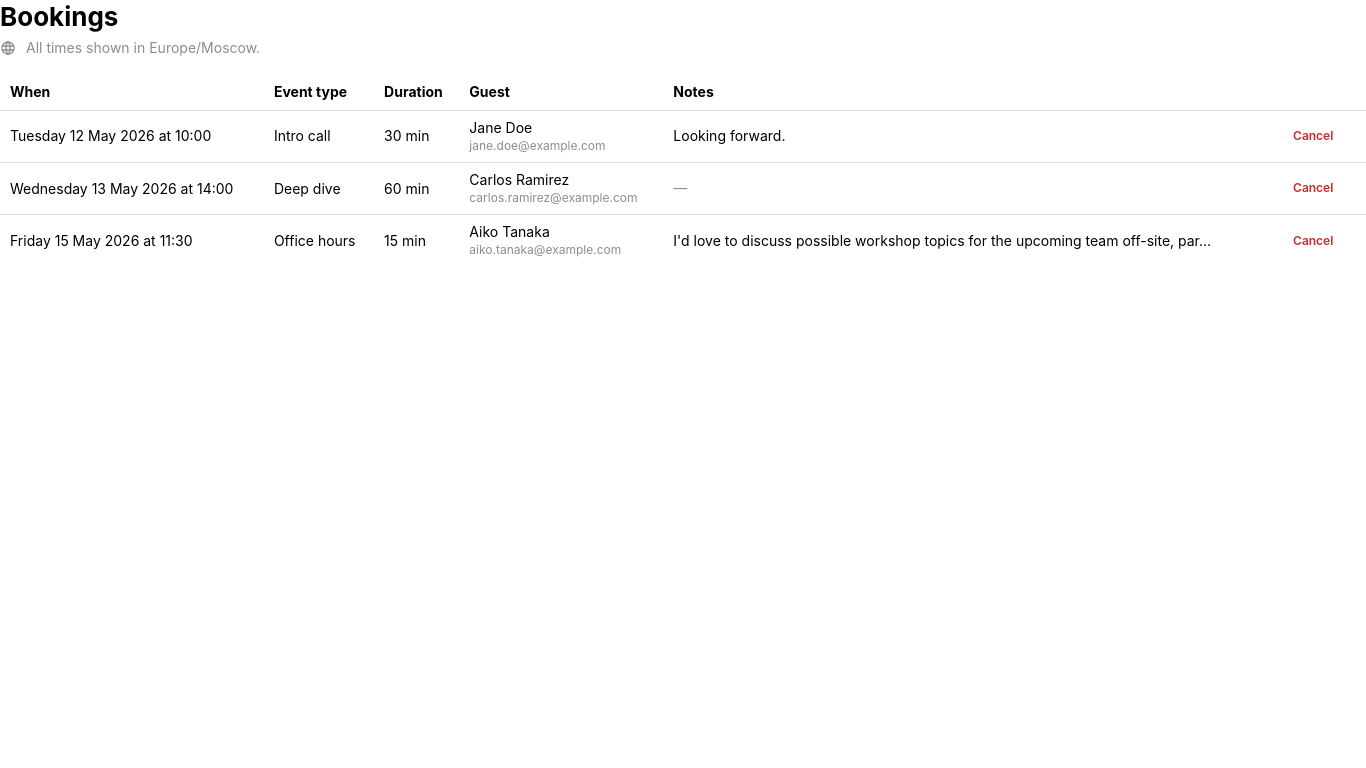
Scenario: BookingsPage › opens the cancel modal with the booking summary when Cancel is clicked
The image size is (1366, 768).
Click the button with aria-label "cancel intro call with jane doe" at (1313, 136), box [1278,121,1348,151]
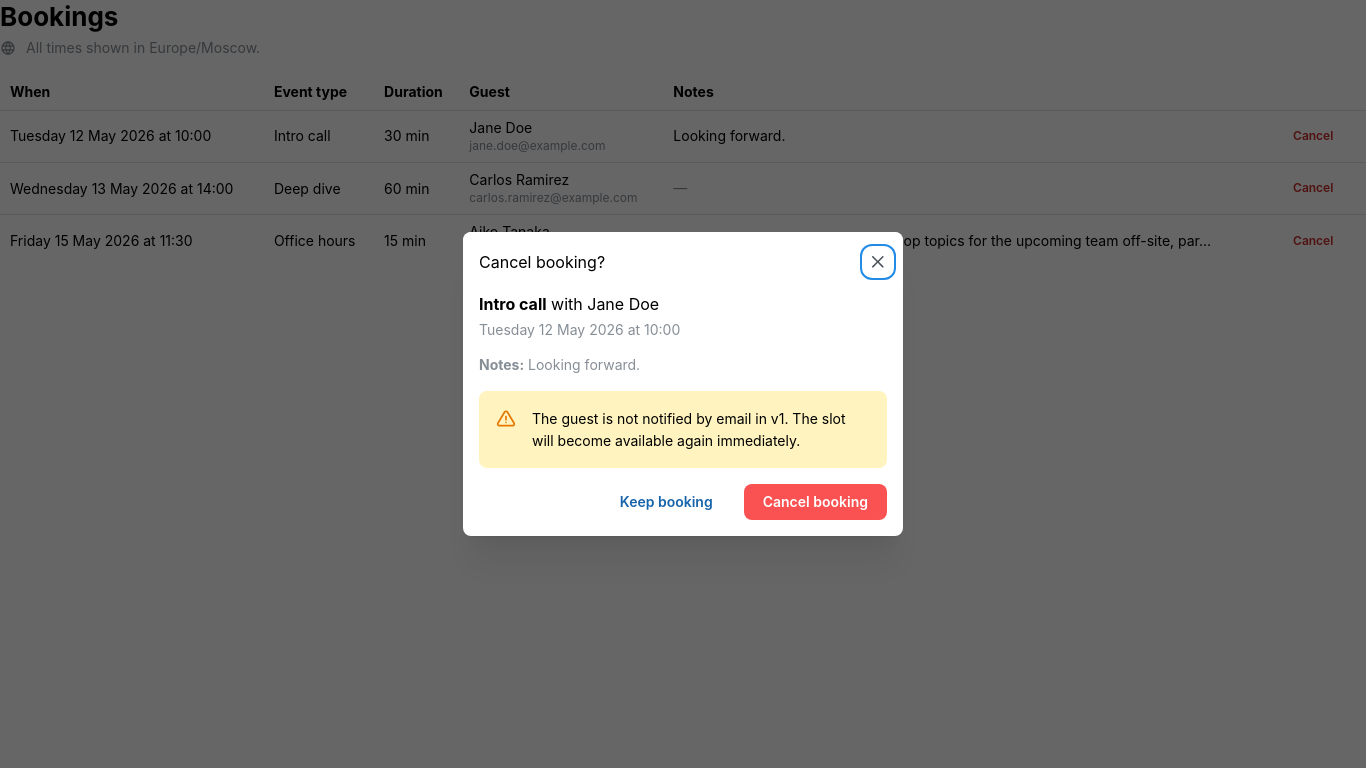
Expected: the text "Intro call" is shown, [479,294,547,314]
Expected: the text "Intro call with Jane Doe" is shown, [479,294,659,314]
